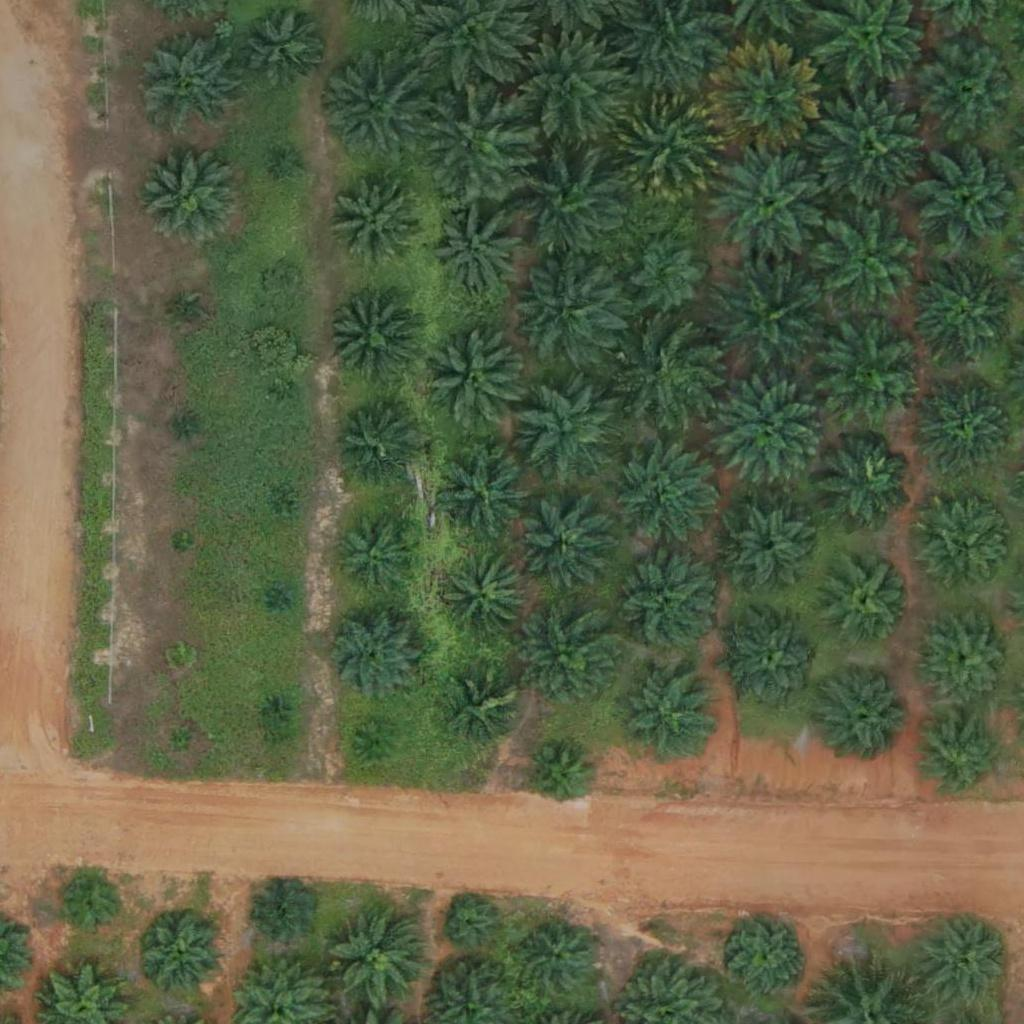Kelapa_Sawit: (711, 381, 824, 495), (318, 50, 431, 164), (813, 209, 926, 322), (709, 42, 822, 155), (611, 91, 724, 204), (711, 143, 824, 256), (708, 261, 821, 374), (512, 148, 624, 262), (516, 251, 628, 365), (421, 84, 533, 198), (812, 91, 924, 204), (509, 35, 621, 148), (318, 599, 430, 712), (918, 40, 1018, 141), (916, 149, 1016, 250), (914, 265, 1014, 366), (916, 375, 1016, 476), (824, 319, 924, 420), (515, 380, 615, 481), (424, 329, 524, 430), (432, 441, 532, 542), (139, 33, 239, 134), (137, 141, 237, 242), (519, 608, 619, 709), (613, 553, 713, 654), (618, 663, 718, 764), (329, 908, 429, 1009), (813, 431, 913, 531), (620, 324, 720, 424), (613, 445, 713, 545), (724, 612, 824, 712), (816, 663, 916, 763), (918, 609, 1018, 709), (913, 913, 1013, 1013), (336, 510, 424, 599), (721, 504, 809, 592), (333, 402, 421, 490), (442, 554, 530, 642), (139, 913, 227, 1001), (921, 505, 1008, 593), (522, 506, 609, 594), (434, 207, 521, 295), (334, 174, 421, 262), (327, 296, 414, 384), (240, 3, 327, 91), (824, 555, 911, 643), (918, 712, 1005, 800), (629, 235, 704, 311), (730, 918, 805, 994), (449, 672, 524, 747), (521, 921, 596, 996), (528, 745, 591, 808), (251, 883, 314, 946), (61, 876, 123, 939), (446, 900, 496, 950), (265, 266, 303, 304), (358, 721, 396, 759), (278, 151, 303, 176), (274, 381, 299, 406), (268, 497, 293, 522), (174, 301, 199, 326), (174, 414, 199, 439), (170, 532, 195, 557), (166, 644, 191, 669), (169, 728, 194, 753), (269, 586, 294, 611), (262, 696, 287, 721)
